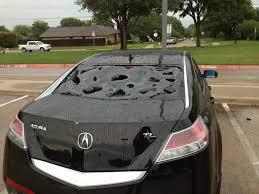roof-dent: (65, 60, 187, 101)
